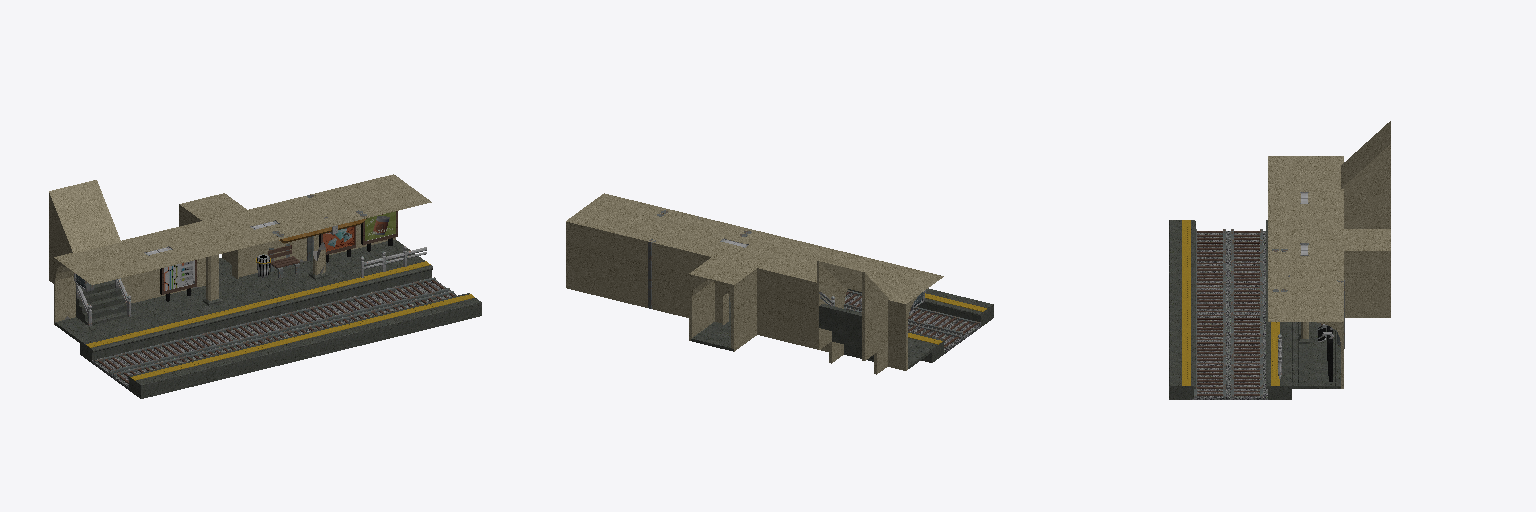
The picture shows the model from 3 angles: view 1: azimuth 30°, elevation 25°; view 2: azimuth 150°, elevation 25°; view 3: azimuth 270°, elevation 25°; orthographic projection.
Parts seen in each view (by area): view 1: MapBoard, MapBoardLightAD, pasted__WallCraked2, pasted__FlatWallAngle5, FloorColumn, MapBoardAD, RoofTileAngle3, FloorEdgeWall31, RoofTileAngle, RoofTileAngle2, RoofTileAngle1, FloorEdgeWall30 (+21 smaller); view 2: pasted__FlatWallAngle5, pasted__FlatWall1, pasted__WallCraked1, pasted__FlatWall4, pasted__FlatWall5, pasted__FlatWall6, pasted__FlatWallAngle4, pasted__WallCraked, pasted__WallCraked2, pasted__FlatWall3, pasted__FlatWallAngle2, pasted__CurvedRoofJoint13 (+18 smaller); view 3: pasted__FlatWallAngle2, pasted__FlatWallAngle3, pasted__FlatWall9, pasted__FlatWall10, pasted__CurvedRoofJoint14, pasted__CurvedRoofJoint15, FloorEdgeWall25, FloorEdgeWall9, TrainTracksRails14.
Part boxes in pixels (left/top/right/bottom): MapBoard: left=160, top=260, right=196, bottom=301; MapBoardLightAD: left=361, top=211, right=397, bottom=251; pasted__WallCraked2: left=54, top=276, right=75, bottom=324; pasted__FlatWallAngle5: left=49, top=191, right=63, bottom=283; FloorColumn: left=196, top=254, right=227, bottom=308; MapBoardAD: left=319, top=226, right=355, bottom=262; RoofTileAngle3: left=52, top=186, right=84, bottom=221; FloorEdgeWall31: left=128, top=371, right=161, bottom=398; RoofTileAngle: left=64, top=217, right=96, bottom=252; RoofTileAngle2: left=73, top=180, right=105, bottom=216; RoofTileAngle1: left=86, top=211, right=117, bottom=247; FloorEdgeWall30: left=80, top=335, right=113, bottom=362; pasted__FlatWallAngle5: left=862, top=272, right=876, bottom=360; pasted__FlatWall1: left=778, top=296, right=799, bottom=344; pasted__WallCraked1: left=757, top=290, right=777, bottom=339; pasted__FlatWall4: left=608, top=254, right=628, bottom=303; pasted__FlatWall5: left=587, top=249, right=607, bottom=297; pasted__FlatWall6: left=566, top=244, right=586, bottom=292; pasted__FlatWallAngle4: left=874, top=286, right=888, bottom=374; pasted__WallCraked: left=652, top=265, right=671, bottom=313; pasted__WallCraked2: left=888, top=322, right=907, bottom=370; pasted__FlatWall3: left=629, top=259, right=647, bottom=307; pasted__FlatWallAngle2: left=817, top=261, right=831, bottom=349; pasted__CurvedRoofJoint13: left=888, top=289, right=919, bottom=326; pasted__FlatWallAngle2: left=1366, top=143, right=1390, bottom=228; pasted__FlatWallAngle3: left=1341, top=165, right=1365, bottom=228; pasted__FlatWall9: left=1366, top=273, right=1390, bottom=317; pasted__FlatWall10: left=1344, top=273, right=1365, bottom=317; pasted__CurvedRoofJoint14: left=1366, top=239, right=1390, bottom=272; pasted__CurvedRoofJoint15: left=1341, top=239, right=1365, bottom=272; FloorEdgeWall25: left=1169, top=376, right=1195, bottom=399; FloorEdgeWall9: left=1266, top=376, right=1291, bottom=399; TrainTracksRails14: left=1226, top=385, right=1267, bottom=399.
Size of the model in its own units: 0.16 by 0.055 by 0.09.
10 materials, 4 textured.